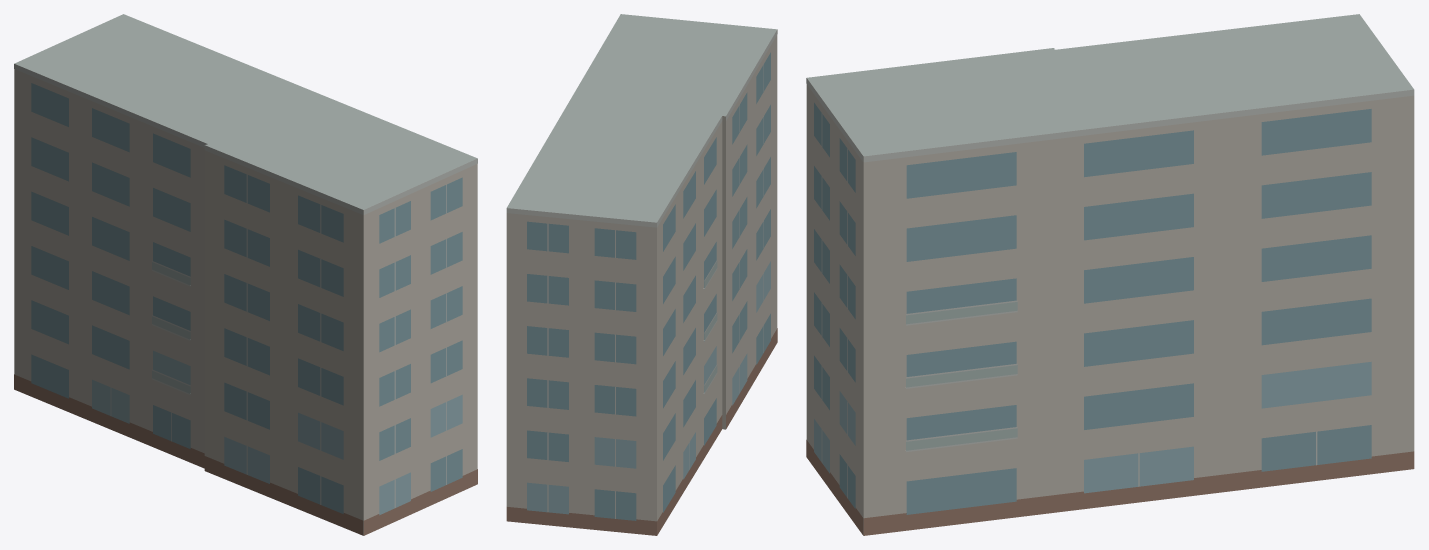
File: survey-upis-32927743.glb
3 renders of one model, left to right at view 1: azimuth 30°, elevation 25°; view 2: azimuth 150°, elevation 25°; view 3: azimuth 270°, elevation 25°, orthographic. The views are drawn at different scales.
Parts seen in each view (by area): view 1: survey-upis-32927743.tmp; view 2: survey-upis-32927743.tmp; view 3: survey-upis-32927743.tmp.
Part boxes in pixels (bbox=[...]): survey-upis-32927743.tmp: bbox=[14, 14, 477, 535]; survey-upis-32927743.tmp: bbox=[506, 14, 777, 535]; survey-upis-32927743.tmp: bbox=[806, 14, 1414, 535].
Size of the model in its own units: 12.41 by 15.4 by 22.37.
